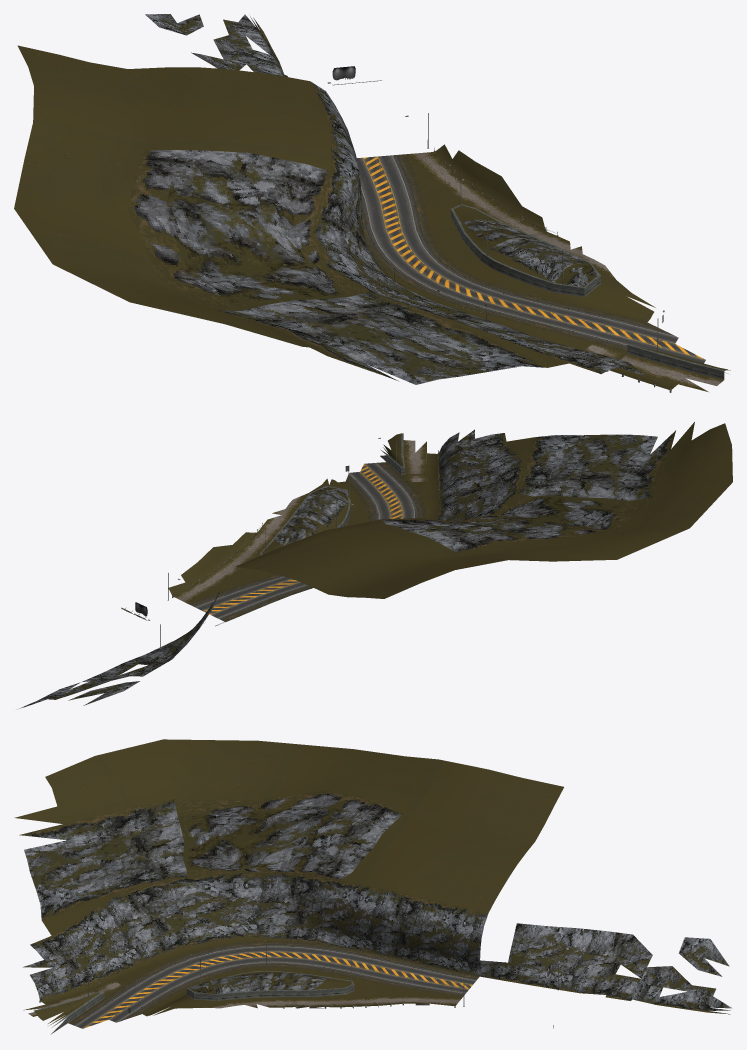
The model's file is world_camden_10_-12.gltf.
The picture shows the model from 3 angles, top to bottom: view 1: azimuth 30°, elevation 25°; view 2: azimuth 150°, elevation 25°; view 3: azimuth 270°, elevation 25°; orthographic projection. The views are drawn at different scales.
Bounding box in the file's own units: 169 × 57.54 × 271.
23 materials, 23 textured.
